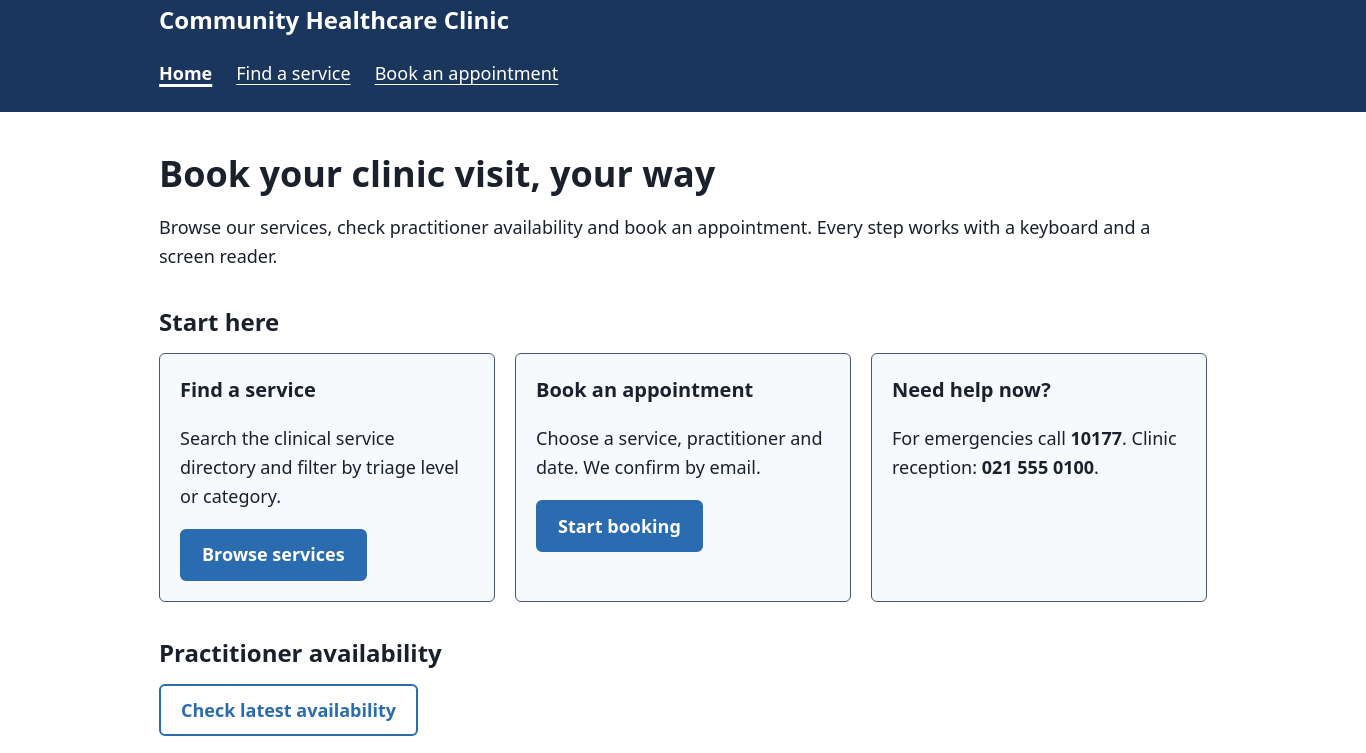
Test case: Accessible booking form › associates every input with a label and helper text
Click the button "Book an appointment": x=467, y=74 375,51 -> 558,96
(page scrolled)
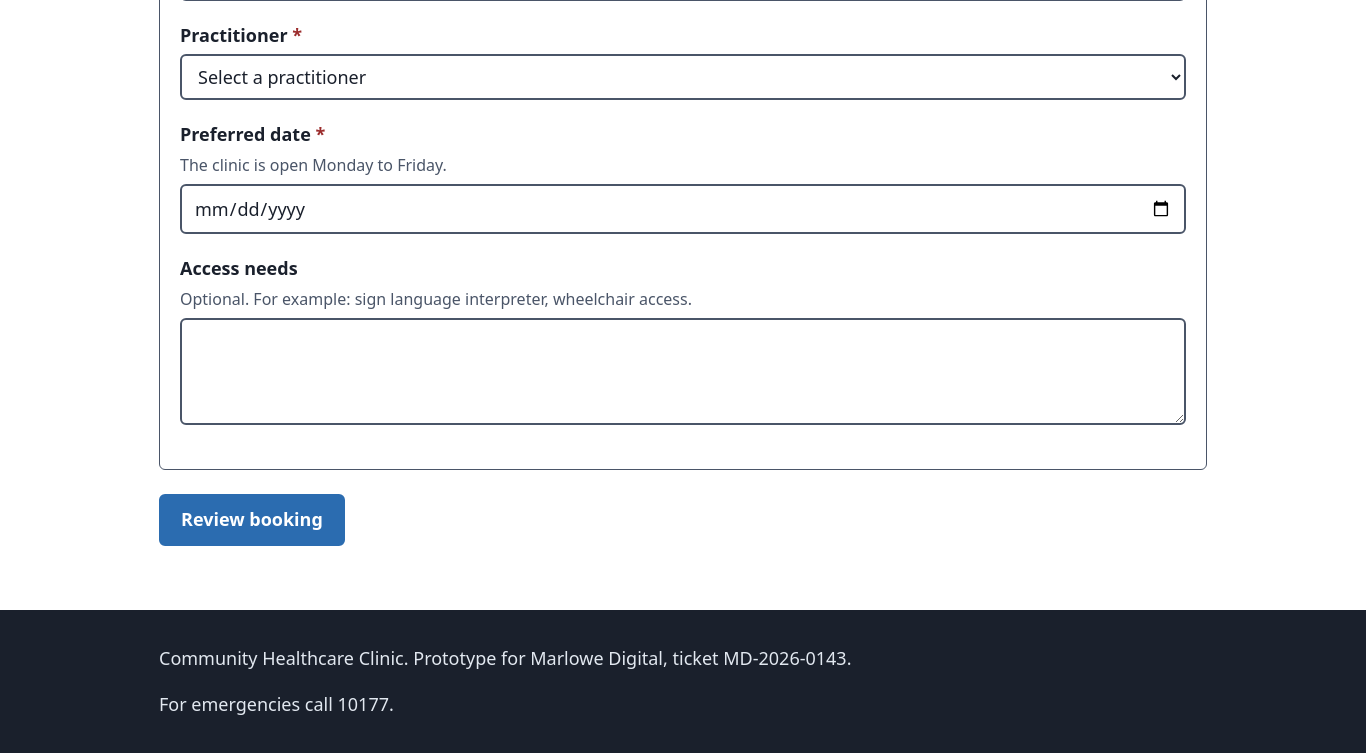
Now the dropdown labelled "Practitioner *" is shown, box 180,54 -> 1186,100
Now the date field labelled "Preferred date *" is shown, box 180,184 -> 1186,234
Now the text box labelled "Access needs" is shown, box 180,318 -> 1186,425
